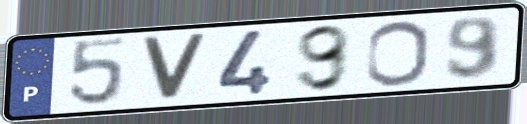4: (215, 27, 280, 98)
5: (66, 35, 129, 110)
9: (290, 22, 355, 94), (444, 14, 502, 83)
O: (363, 18, 431, 88)
V: (137, 32, 212, 103)
